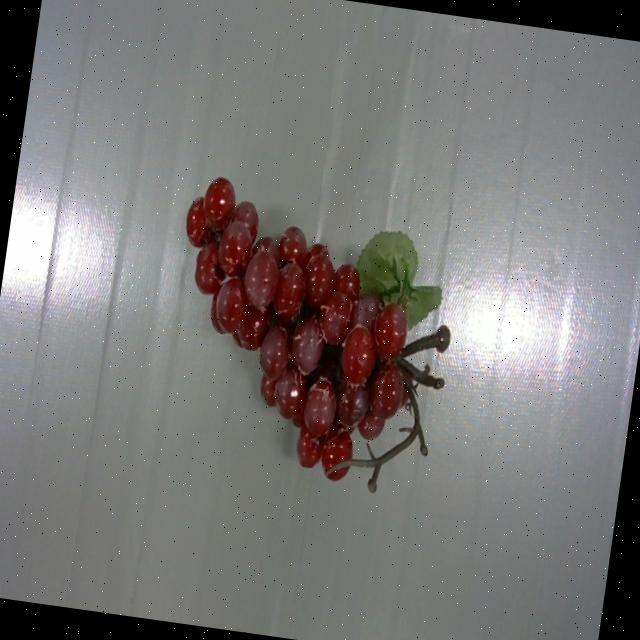grape: (186, 180, 450, 492)
